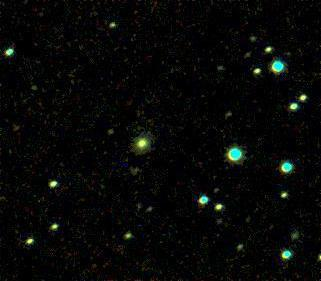star: (5, 112, 35, 142)
